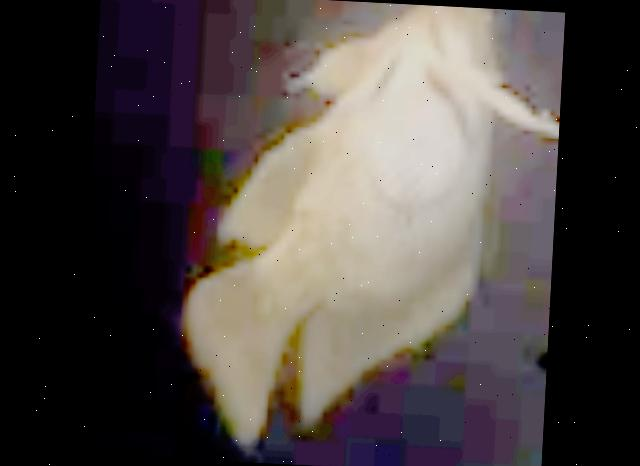Columnaris Disease: (193, 5, 559, 431)
